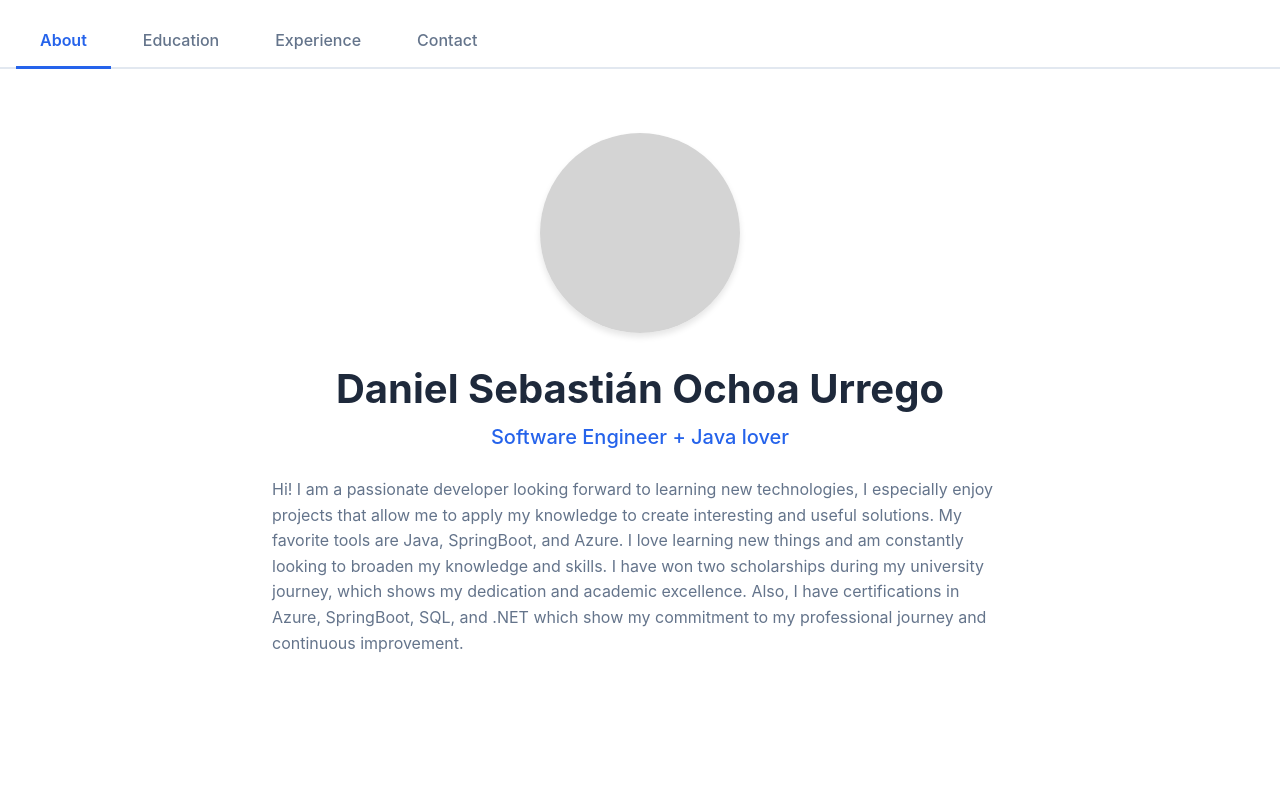
App Accessibility › Semantic HTML Structure › uses h2 headings for section titles in Academic tab
Switch to Academic tab to see h2 headings
Click the tab "Education" at (181, 42), box x1=119 y1=14 x2=243 y2=69
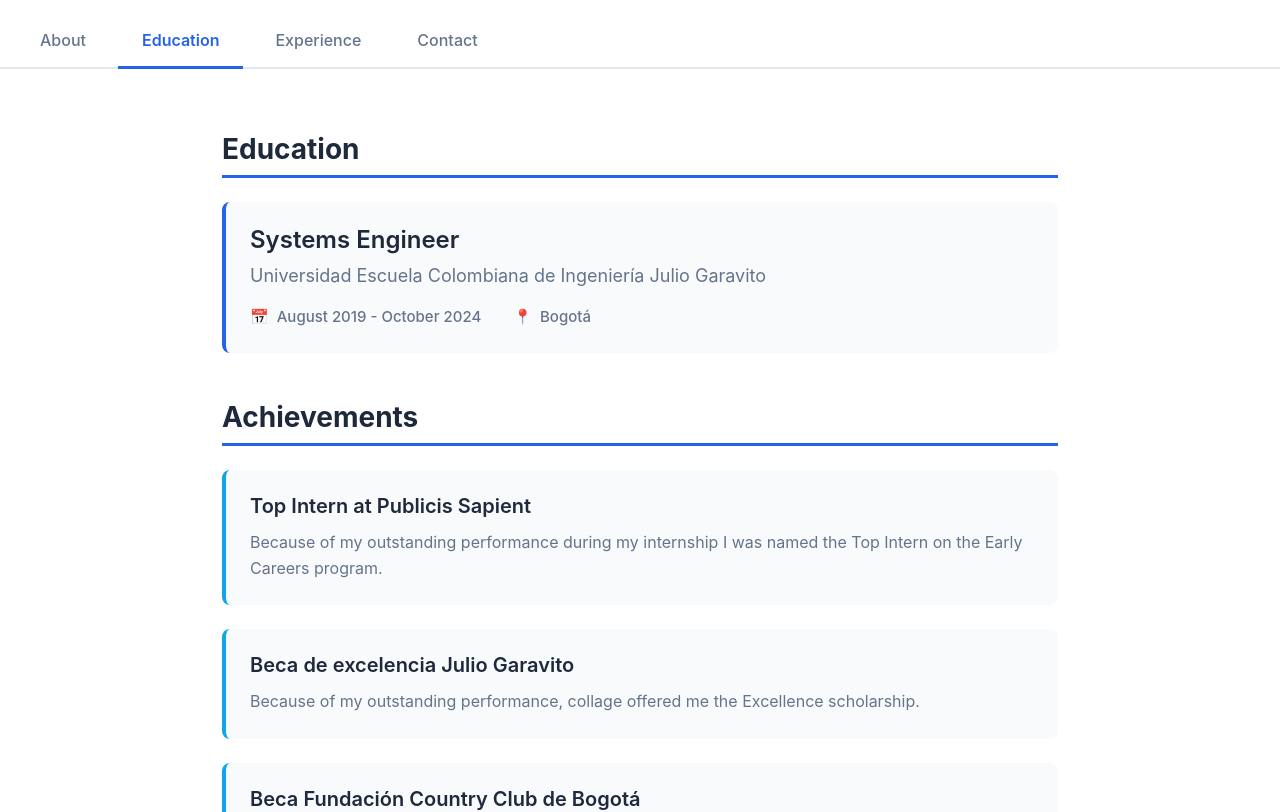
Expected: the heading "Education" is shown, x1=222 y1=133 x2=1058 y2=178
